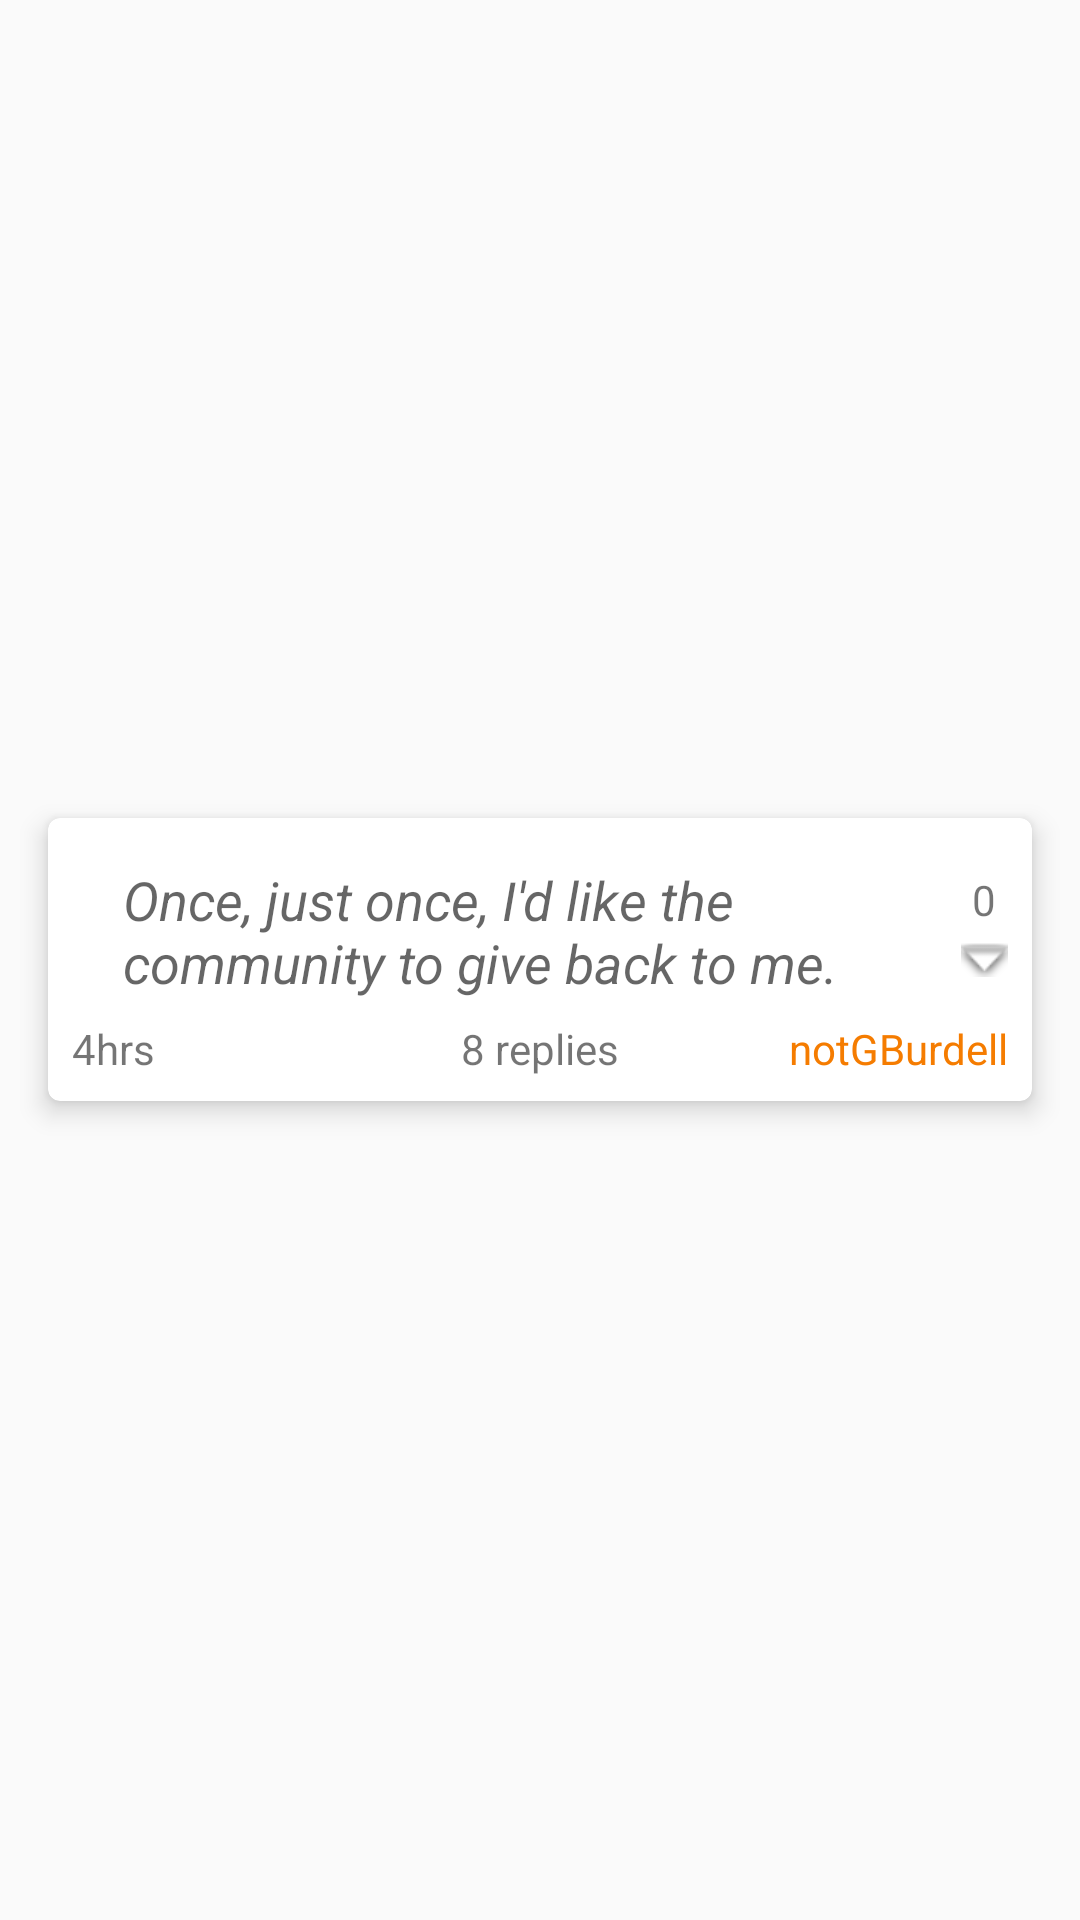

Locate icon controls on the screen. Image size 1080 × 1920, boxes as (x1, y1, x2, y2).
arrow down float: (961, 944, 1008, 976)
